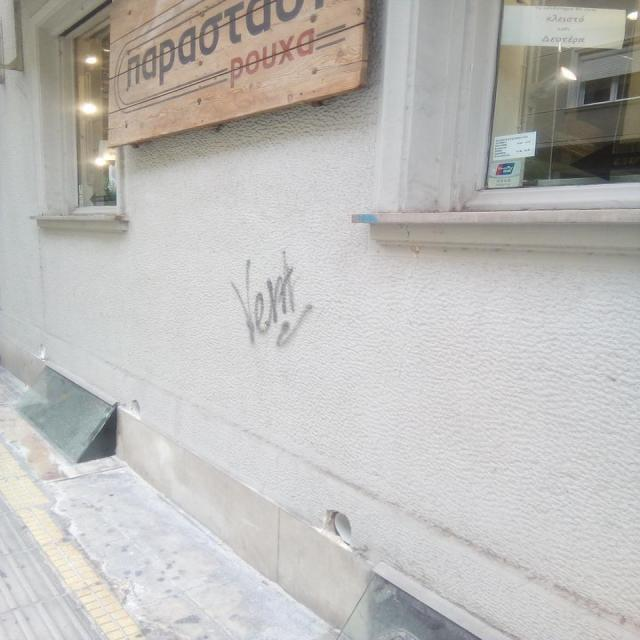nonspitting: (231, 248, 313, 348)
